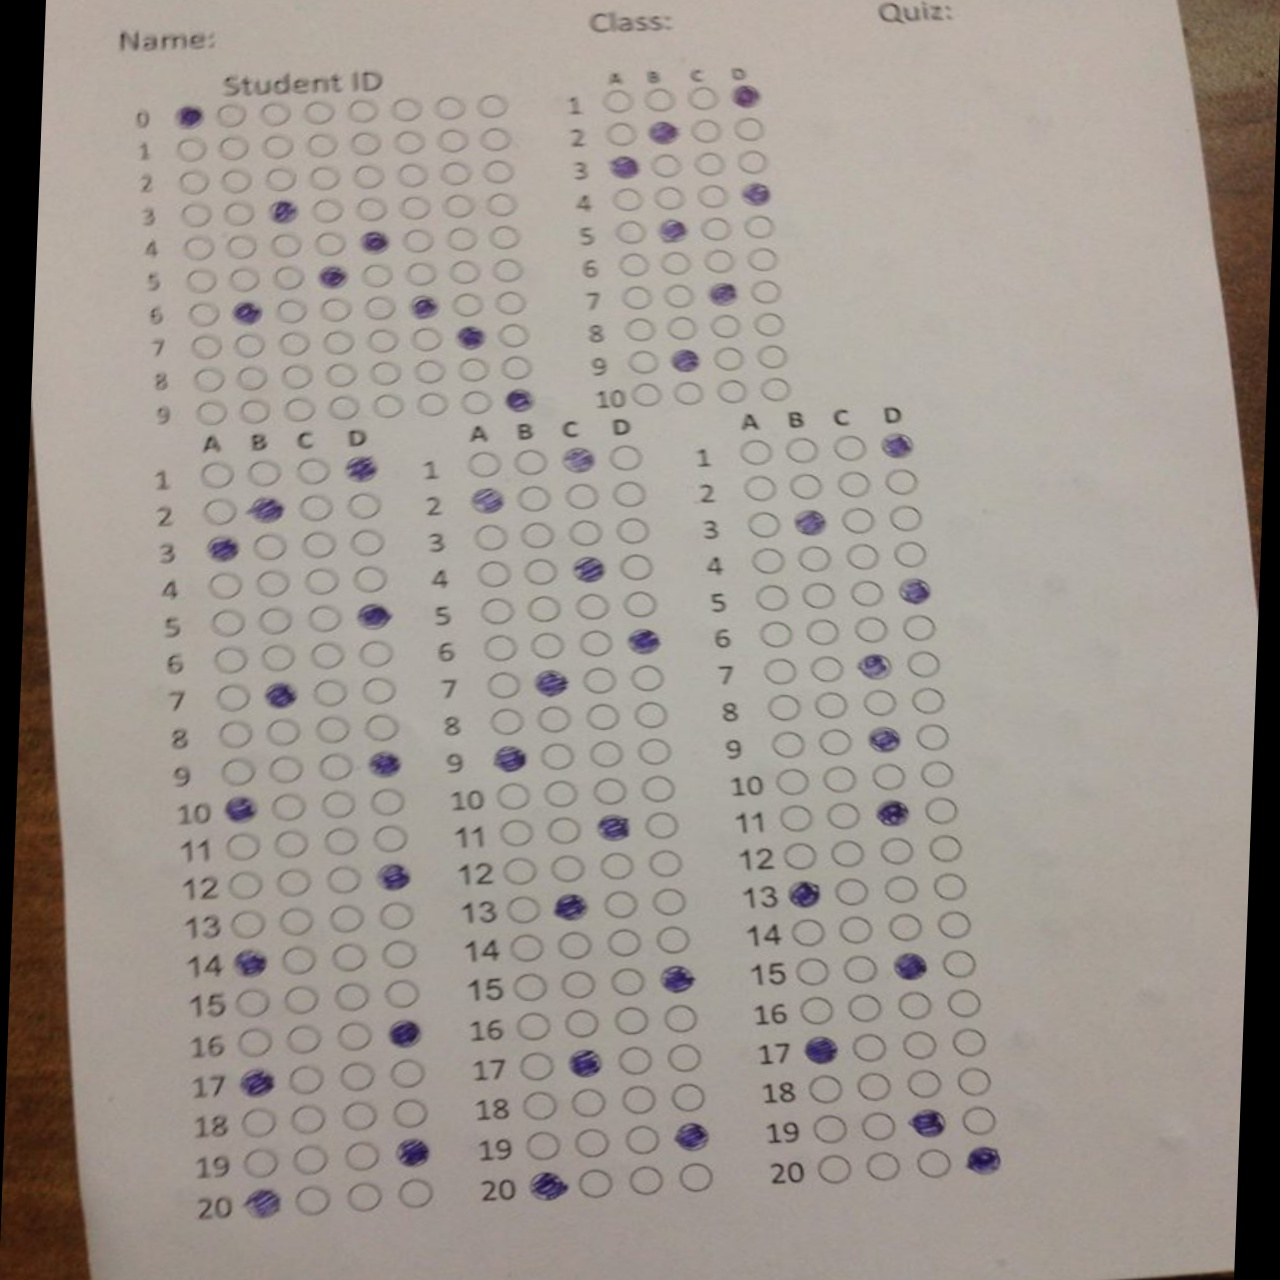not-c: (346, 1179, 384, 1214), (336, 1020, 375, 1054), (388, 1098, 429, 1130), (376, 898, 414, 932), (517, 1048, 554, 1082), (325, 904, 368, 933), (493, 778, 532, 811), (621, 1125, 661, 1157), (788, 915, 828, 947), (273, 869, 314, 899), (519, 557, 560, 587), (574, 1169, 615, 1199), (626, 662, 668, 692), (600, 847, 636, 881), (817, 1150, 853, 1184), (913, 1146, 949, 1180), (939, 948, 976, 981), (225, 869, 264, 900), (631, 699, 669, 730), (508, 931, 546, 962), (771, 765, 810, 797), (915, 758, 954, 790), (605, 927, 645, 958), (355, 640, 396, 669), (345, 1142, 381, 1175), (203, 495, 240, 526), (388, 1058, 425, 1090), (612, 478, 649, 510), (676, 1162, 714, 1193), (757, 619, 795, 651), (617, 552, 655, 583), (651, 886, 689, 917), (653, 925, 692, 955), (567, 1088, 606, 1118), (522, 1130, 560, 1160), (912, 722, 951, 753), (925, 835, 964, 865), (340, 1058, 374, 1092), (290, 1101, 324, 1135), (268, 753, 304, 785), (381, 939, 416, 972), (282, 1024, 324, 1053), (558, 930, 593, 962), (743, 511, 784, 539), (836, 915, 877, 944), (621, 588, 658, 620), (647, 847, 683, 879), (763, 692, 799, 723), (934, 910, 971, 941), (444, 256, 482, 286), (229, 908, 266, 939), (535, 707, 572, 737), (644, 811, 681, 842), (550, 853, 587, 884), (510, 972, 547, 1002), (959, 1107, 996, 1137), (271, 831, 309, 860), (504, 894, 543, 924), (619, 1084, 658, 1114), (796, 580, 835, 610), (880, 873, 919, 903), (842, 955, 880, 985), (850, 1032, 888, 1061), (486, 707, 526, 735), (835, 469, 874, 497), (891, 542, 931, 570), (627, 1164, 661, 1197), (313, 678, 348, 709), (397, 1177, 433, 1208), (617, 1044, 652, 1076), (670, 1081, 706, 1112), (835, 877, 870, 908), (342, 1099, 379, 1130), (545, 815, 581, 845), (613, 1006, 649, 1036), (839, 506, 876, 537), (769, 729, 805, 760), (952, 1026, 988, 1056), (863, 1110, 899, 1141), (222, 835, 263, 862), (316, 754, 354, 783), (232, 987, 270, 1016), (295, 1189, 333, 1218), (474, 560, 511, 590), (499, 856, 537, 885), (899, 612, 937, 641), (828, 839, 865, 869), (299, 532, 338, 560), (363, 715, 402, 743), (537, 742, 576, 770), (791, 956, 830, 985), (576, 1126, 608, 1159), (392, 93, 425, 124), (282, 944, 314, 978), (384, 980, 418, 1012), (241, 1105, 275, 1137), (294, 1144, 328, 1176), (862, 687, 896, 719), (817, 726, 851, 757), (828, 801, 862, 832), (478, 598, 518, 625), (219, 757, 254, 788), (513, 1010, 549, 1041), (921, 796, 956, 826), (198, 459, 234, 489), (207, 572, 244, 601), (260, 644, 297, 673), (244, 1148, 280, 1177), (474, 520, 510, 550), (520, 520, 557, 550), (610, 968, 646, 998), (832, 433, 869, 462), (886, 912, 922, 941), (903, 1029, 939, 1058), (406, 325, 443, 353), (215, 685, 252, 713), (573, 592, 611, 620), (481, 632, 518, 660), (907, 688, 945, 716), (930, 873, 967, 901), (955, 1067, 993, 1095), (266, 233, 305, 260), (779, 842, 818, 869), (867, 1151, 900, 1183), (215, 132, 248, 163), (477, 91, 511, 122), (348, 94, 382, 124), (300, 97, 334, 128), (258, 98, 292, 129), (270, 790, 304, 821), (277, 908, 311, 939), (615, 516, 649, 546), (527, 594, 561, 625), (604, 890, 638, 920), (564, 1008, 598, 1039), (886, 468, 920, 498), (908, 1067, 942, 1097), (302, 132, 338, 162), (451, 291, 486, 320), (361, 676, 396, 706), (336, 983, 372, 1013), (581, 665, 617, 694), (636, 737, 672, 767), (592, 777, 627, 806), (742, 475, 777, 504), (775, 804, 810, 833), (520, 1092, 560, 1118), (491, 257, 527, 285), (302, 567, 339, 595), (350, 565, 387, 593), (237, 1028, 273, 1056), (542, 779, 578, 808), (641, 775, 678, 803), (663, 1005, 700, 1033), (737, 438, 774, 467), (844, 544, 881, 571), (856, 1073, 888, 1103), (308, 197, 347, 223), (185, 333, 224, 359), (261, 130, 295, 159), (175, 131, 209, 161), (392, 127, 425, 156), (402, 260, 436, 290), (501, 354, 535, 383), (327, 866, 361, 896), (332, 942, 366, 972), (804, 618, 838, 647), (813, 690, 847, 720), (307, 605, 342, 633), (309, 641, 345, 669), (731, 148, 767, 176), (571, 519, 606, 547), (782, 436, 817, 464), (821, 765, 856, 794), (216, 168, 252, 195), (321, 363, 358, 390), (372, 788, 408, 815), (869, 765, 905, 792), (361, 297, 399, 322), (434, 91, 467, 121), (350, 162, 383, 191), (272, 263, 305, 292), (762, 658, 795, 687), (808, 1075, 840, 1104), (184, 300, 218, 328), (277, 361, 311, 389), (299, 495, 333, 523), (256, 533, 290, 561), (254, 570, 288, 598), (321, 790, 355, 818), (290, 1067, 324, 1095), (668, 1046, 702, 1074), (898, 992, 932, 1020), (812, 1114, 846, 1142), (184, 267, 219, 294), (270, 299, 305, 326), (350, 530, 386, 557), (217, 721, 252, 748), (315, 716, 350, 743), (527, 632, 563, 659), (488, 670, 523, 697), (561, 971, 597, 998), (906, 651, 941, 678), (257, 607, 293, 633), (372, 828, 408, 853), (610, 188, 646, 213), (749, 550, 785, 576), (850, 579, 881, 608), (368, 360, 401, 388), (297, 457, 329, 485), (285, 986, 318, 1014), (799, 996, 832, 1024), (658, 251, 692, 278), (855, 617, 888, 644), (811, 656, 845, 683), (247, 462, 282, 488), (343, 492, 379, 518), (601, 88, 636, 114), (602, 121, 638, 147), (648, 151, 683, 177), (615, 251, 651, 277), (608, 444, 644, 470), (588, 742, 624, 768), (798, 546, 833, 572), (947, 990, 982, 1016), (512, 450, 549, 475), (688, 83, 719, 113), (715, 377, 745, 407), (761, 376, 790, 407), (179, 200, 211, 229), (689, 117, 721, 145), (613, 218, 645, 246), (586, 704, 618, 733), (887, 506, 919, 535), (484, 191, 517, 218), (621, 284, 654, 311), (625, 316, 658, 343), (579, 631, 612, 658), (627, 382, 665, 406), (481, 125, 515, 151), (183, 234, 217, 260), (234, 332, 268, 358), (458, 356, 492, 382), (693, 150, 727, 176), (751, 312, 785, 338), (501, 821, 535, 846), (881, 840, 915, 866), (440, 195, 478, 217), (400, 193, 430, 222), (436, 127, 468, 154), (178, 168, 210, 195), (354, 195, 386, 222), (237, 365, 268, 392), (211, 610, 243, 636), (734, 113, 765, 139), (702, 216, 734, 243), (223, 202, 256, 227), (486, 225, 519, 251), (322, 297, 355, 322), (280, 332, 313, 358), (239, 399, 272, 424), (327, 396, 360, 422), (267, 720, 300, 745), (627, 349, 660, 375), (263, 168, 297, 192), (395, 163, 429, 188), (403, 229, 437, 253), (358, 263, 392, 287), (696, 184, 730, 209), (789, 475, 823, 499), (218, 100, 246, 129), (758, 343, 788, 372), (564, 484, 599, 508), (229, 268, 260, 294), (416, 359, 448, 384), (326, 830, 358, 856), (666, 315, 697, 341), (496, 290, 529, 314), (284, 399, 316, 423), (468, 452, 501, 477), (847, 996, 881, 1020), (350, 131, 381, 157), (440, 162, 470, 188), (713, 315, 743, 341), (215, 647, 246, 672), (750, 280, 782, 305), (367, 329, 400, 353), (756, 586, 789, 610), (226, 236, 254, 263), (666, 282, 694, 309), (656, 184, 686, 210), (745, 215, 775, 240), (715, 346, 744, 372), (483, 161, 513, 185), (324, 332, 354, 356), (519, 486, 551, 510), (445, 227, 478, 250), (198, 400, 226, 425), (195, 368, 224, 393), (417, 392, 448, 415), (672, 382, 702, 406), (309, 165, 340, 188), (642, 88, 676, 108), (499, 322, 527, 346), (375, 394, 403, 417), (745, 247, 776, 268), (703, 248, 731, 271), (313, 234, 342, 256), (463, 390, 489, 411)
taken-c: (561, 1048, 606, 1081), (799, 1033, 842, 1067), (523, 1167, 566, 1199), (890, 949, 930, 983), (906, 1107, 947, 1138), (530, 665, 568, 697), (392, 1135, 431, 1166), (237, 1065, 274, 1098), (872, 796, 910, 829), (342, 452, 377, 486), (231, 947, 268, 979), (244, 493, 282, 524), (241, 1186, 280, 1217), (964, 1144, 1002, 1175), (490, 742, 527, 772), (203, 533, 241, 563), (355, 602, 394, 632), (552, 890, 587, 921), (658, 964, 695, 993), (594, 813, 632, 843), (624, 625, 661, 654), (558, 444, 595, 474), (876, 430, 913, 459), (896, 573, 930, 605), (467, 485, 503, 515), (784, 879, 821, 908), (568, 554, 606, 583), (365, 748, 400, 777), (672, 1121, 707, 1150), (791, 506, 826, 536), (865, 723, 900, 753), (375, 862, 411, 890), (736, 179, 772, 207), (605, 154, 642, 181), (171, 100, 204, 130), (386, 1017, 420, 1047), (644, 118, 679, 147), (666, 346, 702, 373), (855, 651, 891, 678), (264, 196, 297, 225), (261, 680, 297, 707), (704, 281, 740, 308), (729, 81, 761, 109), (223, 794, 256, 821), (452, 324, 486, 349), (316, 263, 348, 290), (229, 298, 261, 324), (406, 293, 438, 319), (655, 217, 686, 244), (358, 227, 389, 253), (502, 387, 532, 411)
